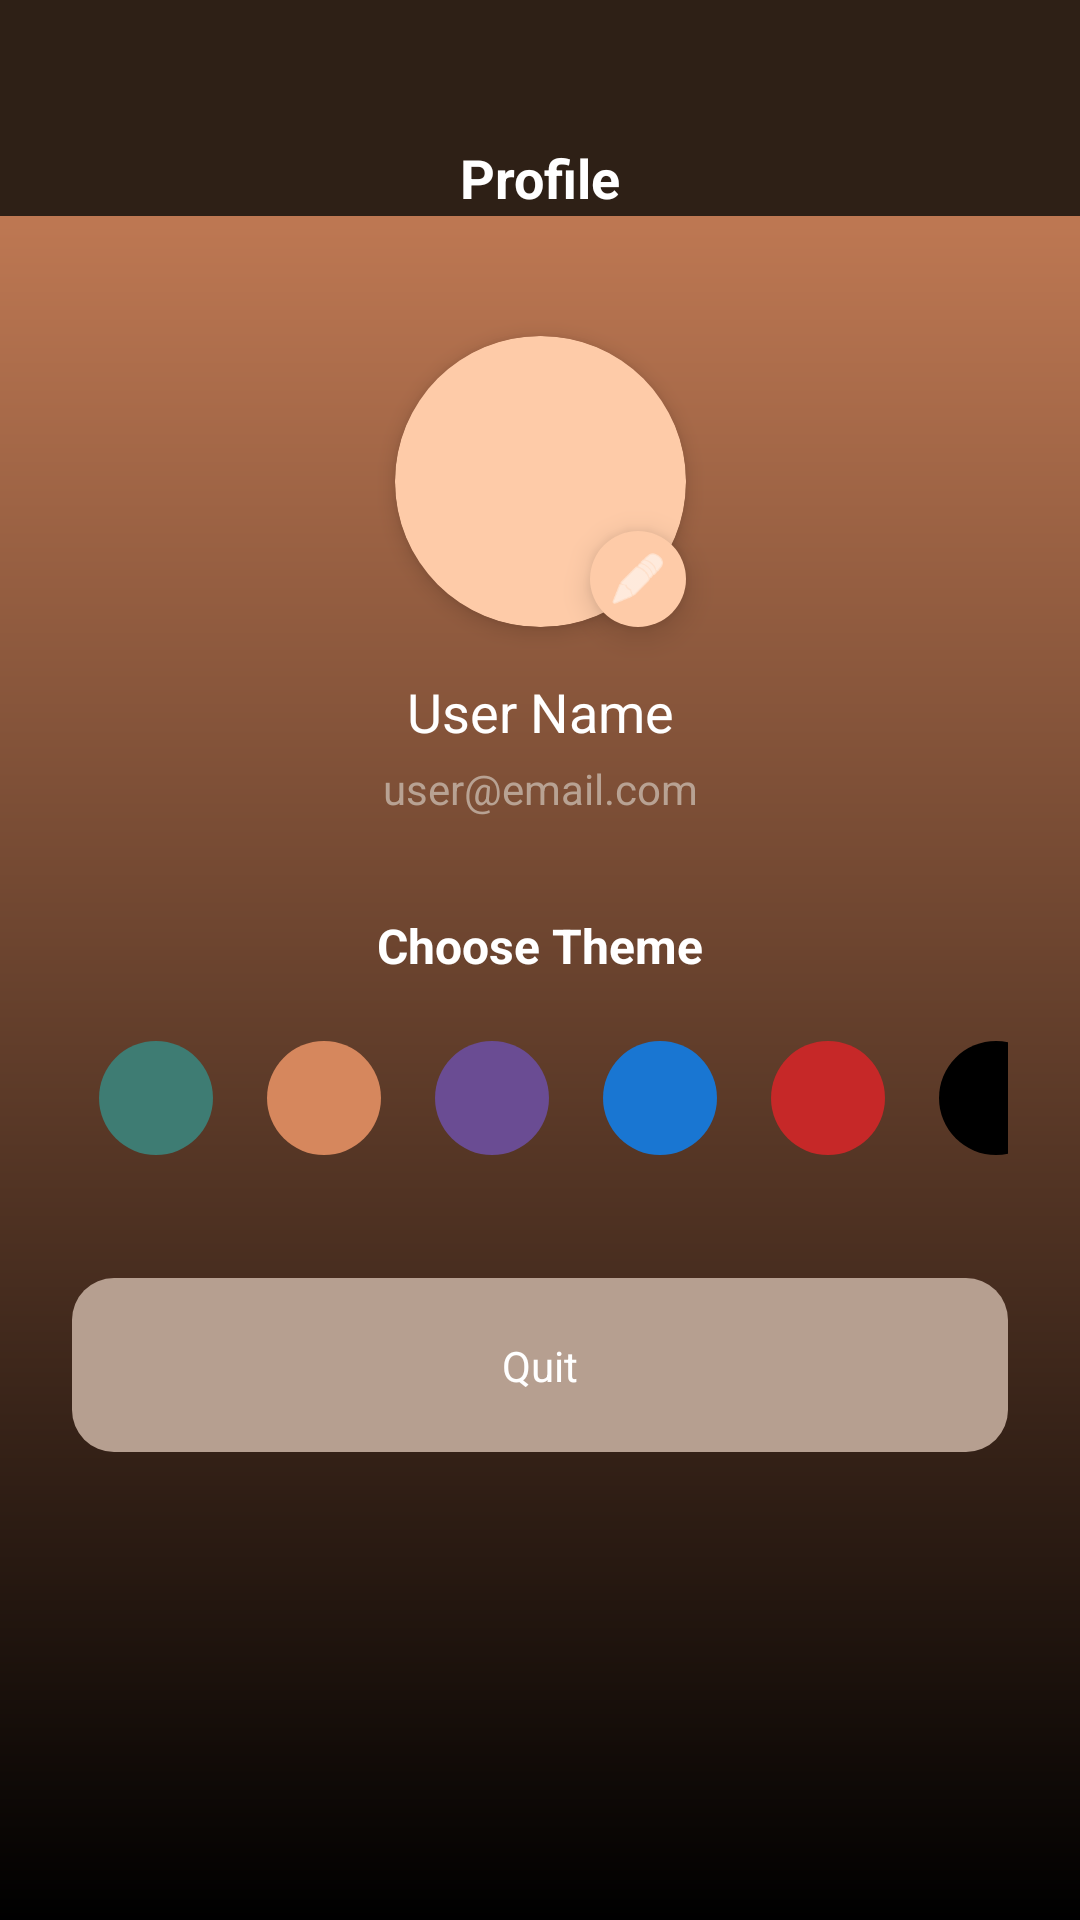

Screen size 1080x1920. Icon name, then its center in pixels as (x=x, y=y):
edit: (x=638, y=579)
